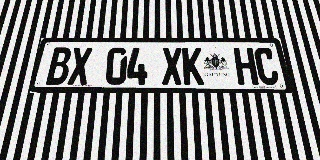0: (105, 47, 128, 85)
4: (126, 48, 148, 85)
B: (46, 47, 72, 85)
C: (253, 48, 280, 85)
H: (233, 48, 259, 85)
K: (182, 48, 204, 85)
X: (67, 47, 92, 85), (162, 48, 183, 85)
